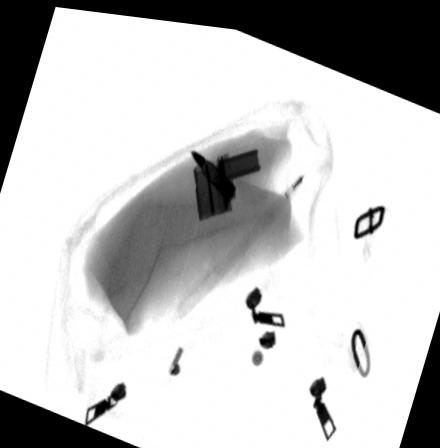Bullet: (186, 142, 237, 199)
